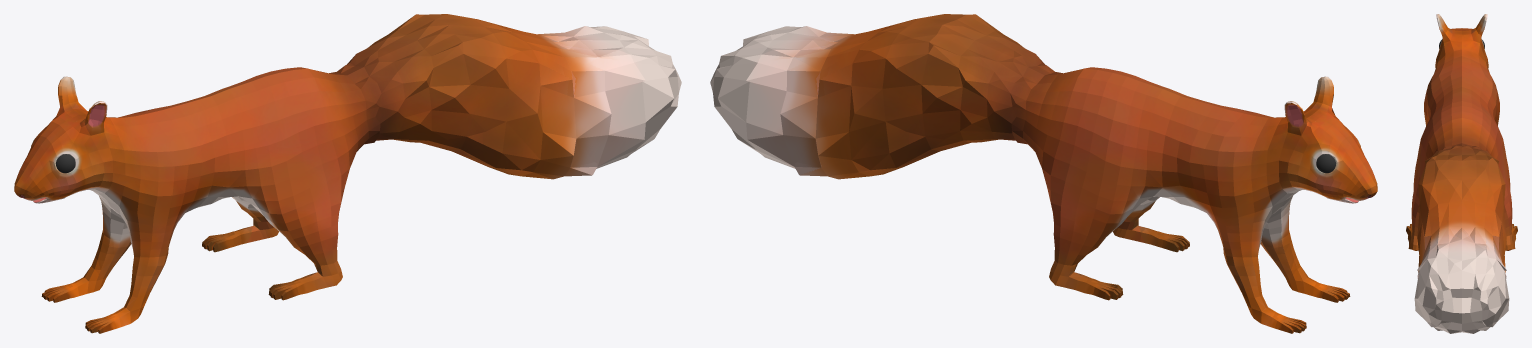
Rendered from Squirrel Model NoRig.fbx.
The picture shows the model from 3 angles, left to right: view 1: azimuth 30°, elevation 25°; view 2: azimuth 150°, elevation 25°; view 3: azimuth 270°, elevation 25°; orthographic projection. The views are drawn at different scales.
Visible parts, largest first — view 1: Squirrel; view 2: Squirrel; view 3: Squirrel.
Part boxes in pixels (bbox=[...]): Squirrel: bbox=[14, 14, 681, 333]; Squirrel: bbox=[710, 14, 1377, 333]; Squirrel: bbox=[1406, 14, 1517, 333].
Size of the model in its own units: 846 by 275 by 175.
